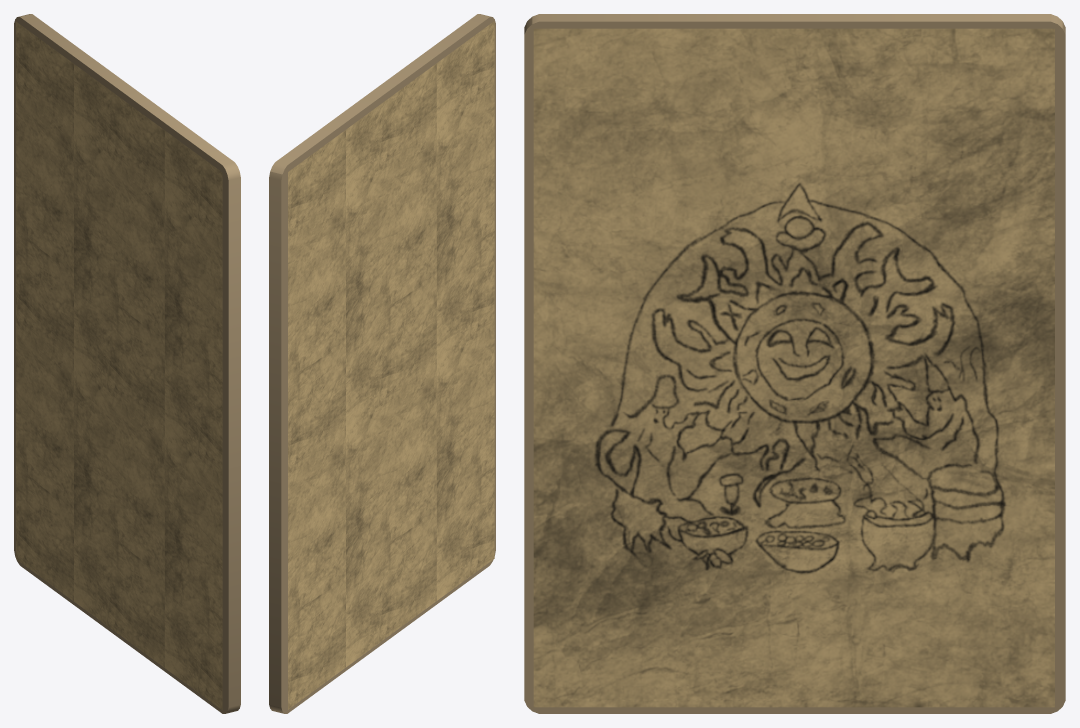
File: kartlar_1.fbx
The picture shows the model from 3 angles, left to right: view 1: azimuth 30°, elevation 25°; view 2: azimuth 150°, elevation 25°; view 3: azimuth 270°, elevation 25°; orthographic projection. The views are drawn at different scales.
Parts seen in each view (by area): view 1: arka_yüz, kart; view 2: arka_yüz, kart; view 3: ön_yüz, kart.
Part boxes in pixels (x1=…): arka_yüz: x1=16, y1=21, x2=222, y2=709; kart: x1=14, y1=14, x2=240, y2=713; arka_yüz: x1=288, y1=21, x2=494, y2=709; kart: x1=269, y1=14, x2=495, y2=713; ön_yüz: x1=533, y1=28, x2=1054, y2=707; kart: x1=524, y1=14, x2=1065, y2=713.
Bounding box in the file's own units: 13.46 × 446 × 316.
